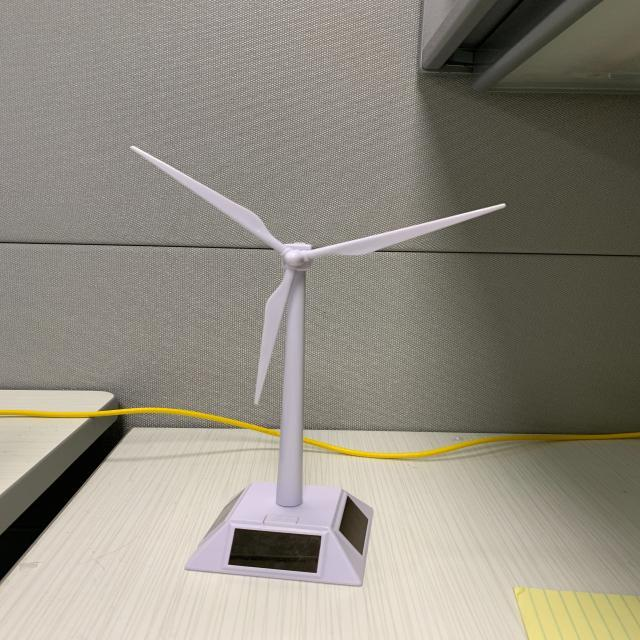solid-blade: (131, 147, 282, 252), (311, 204, 505, 257), (254, 268, 295, 403)
